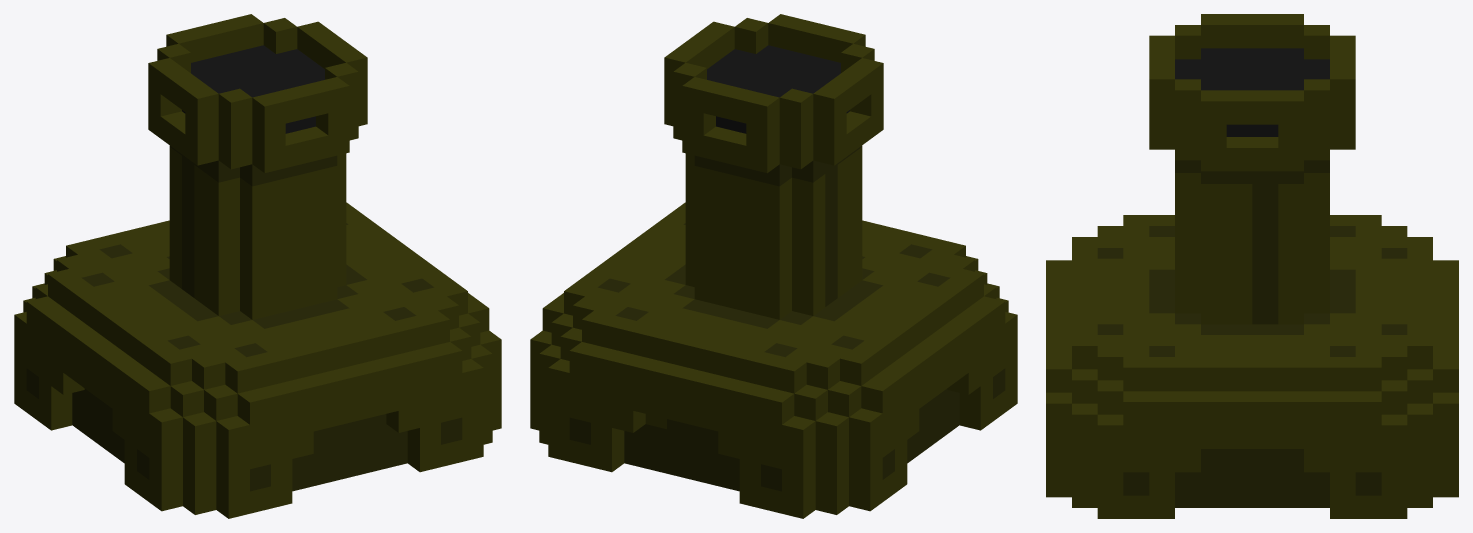
File: turret.obj
3 views of the same model, side by side, from view 1: azimuth 30°, elevation 25°; view 2: azimuth 150°, elevation 25°; view 3: azimuth 270°, elevation 25° (orthographic). The views are drawn at different scales.
Bounding box in the file's own units: 1.6 × 1.6 × 1.6.
Materials: 1 (1 with a texture image).
